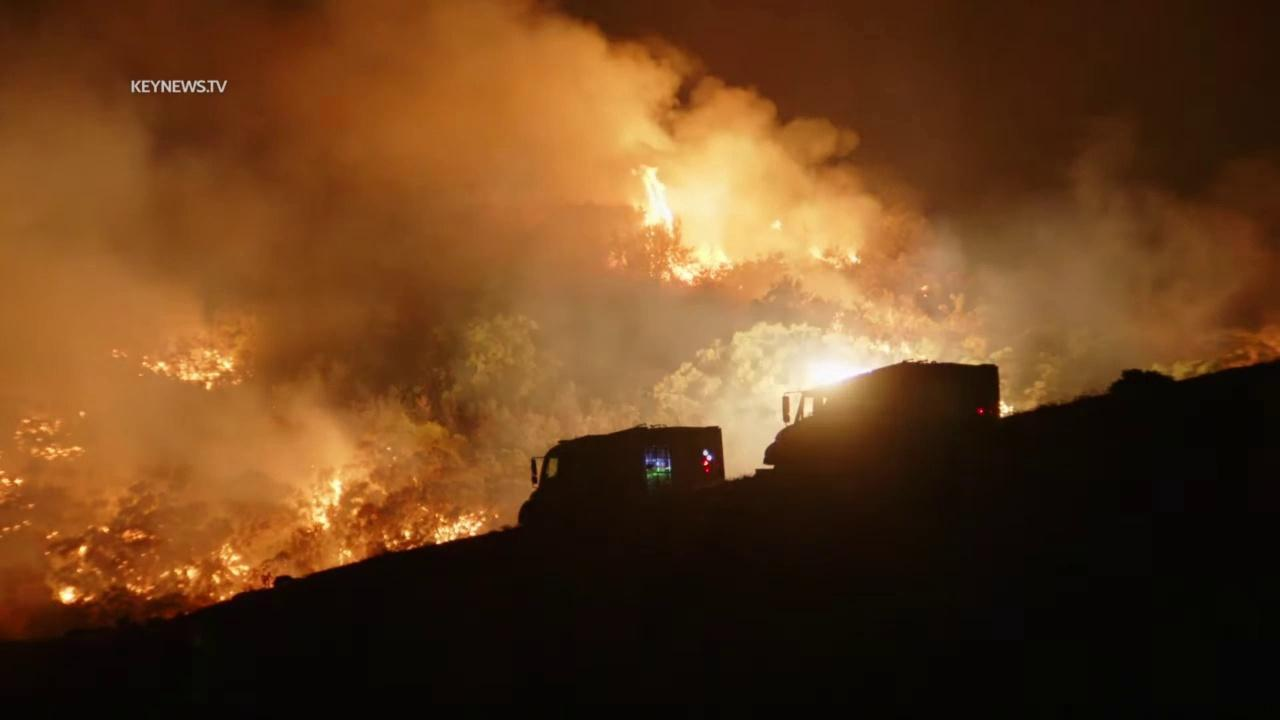fire: (636, 166, 735, 286), (380, 505, 488, 554), (138, 344, 244, 391), (11, 408, 89, 461), (801, 349, 875, 389), (208, 541, 251, 602), (313, 468, 344, 534), (56, 582, 98, 608), (171, 563, 204, 589), (119, 527, 158, 546), (0, 469, 24, 488), (2, 519, 33, 532), (125, 583, 158, 595), (847, 245, 862, 264), (338, 547, 352, 567), (77, 544, 90, 559), (770, 219, 784, 230), (96, 525, 111, 535), (46, 530, 59, 540), (159, 568, 170, 579), (919, 284, 930, 292), (630, 404, 640, 412)
smoke: (0, 0, 1280, 649)
